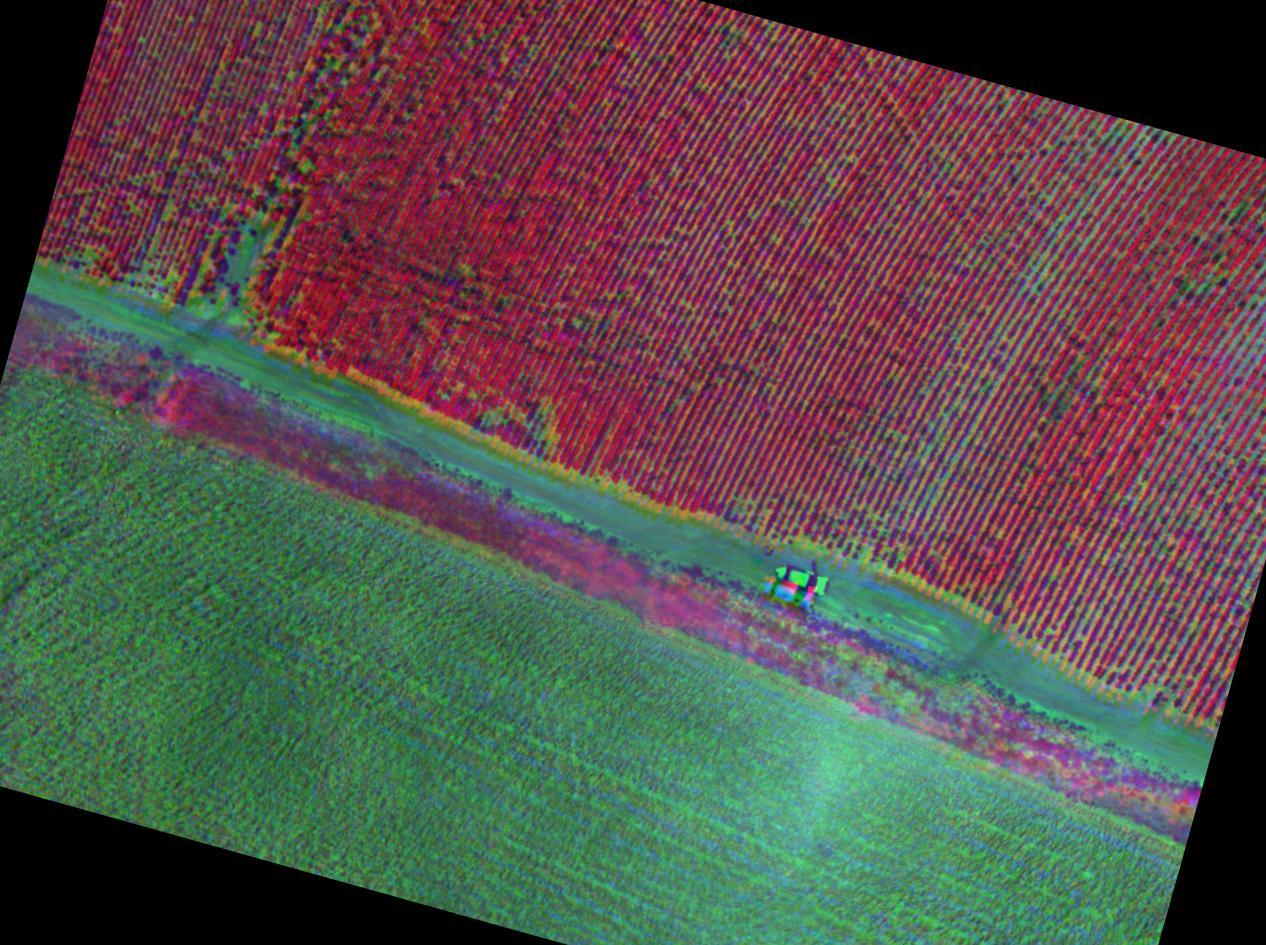dc: (478, 396, 559, 462), (197, 268, 251, 325), (918, 438, 958, 493), (1029, 241, 1072, 292), (1099, 125, 1138, 172), (229, 217, 271, 259), (127, 262, 171, 297)
